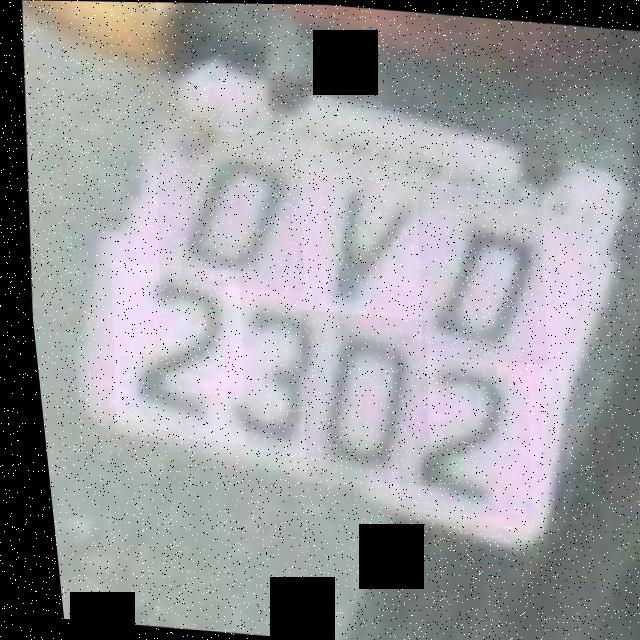0: (282, 308, 432, 485)
2: (374, 335, 533, 517), (93, 260, 247, 443)
3: (181, 267, 337, 461)
D: (401, 185, 551, 363)
O: (140, 125, 309, 292)
